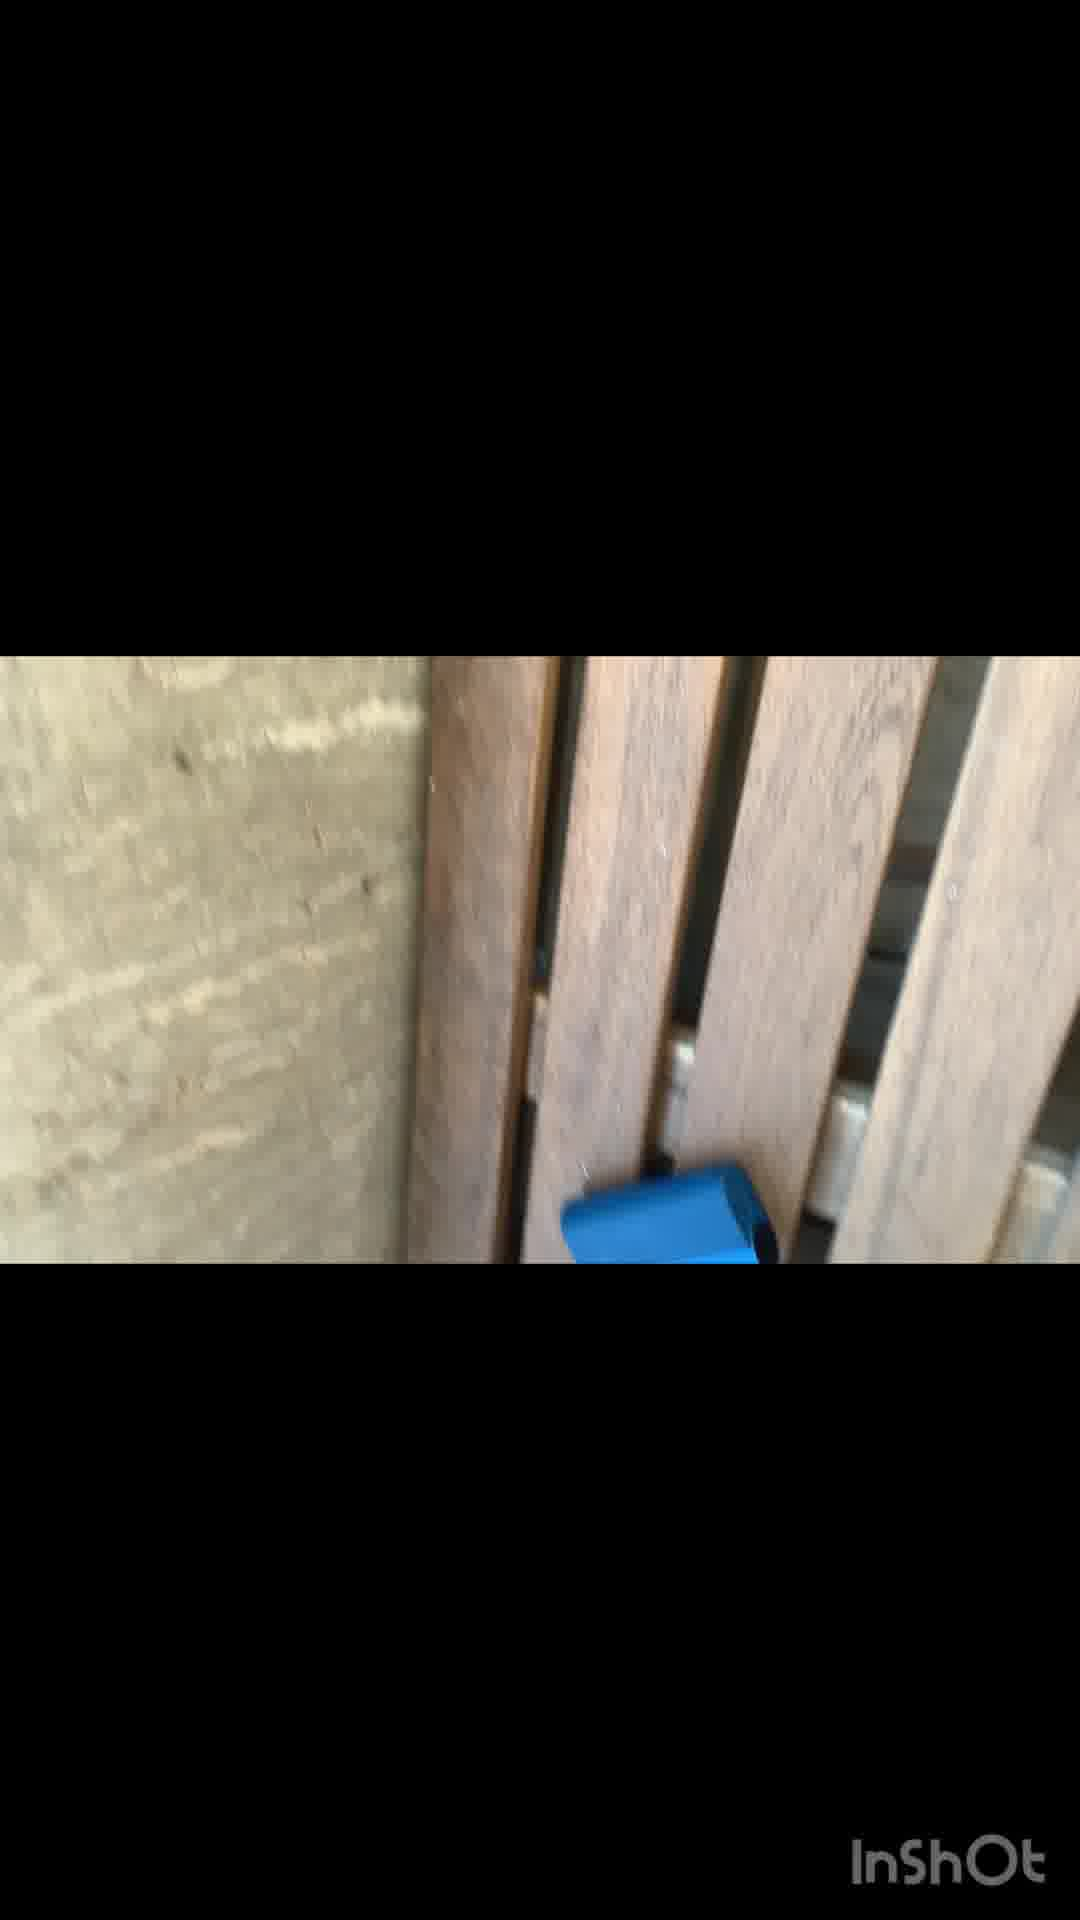glo: (546, 1153, 782, 1265)
